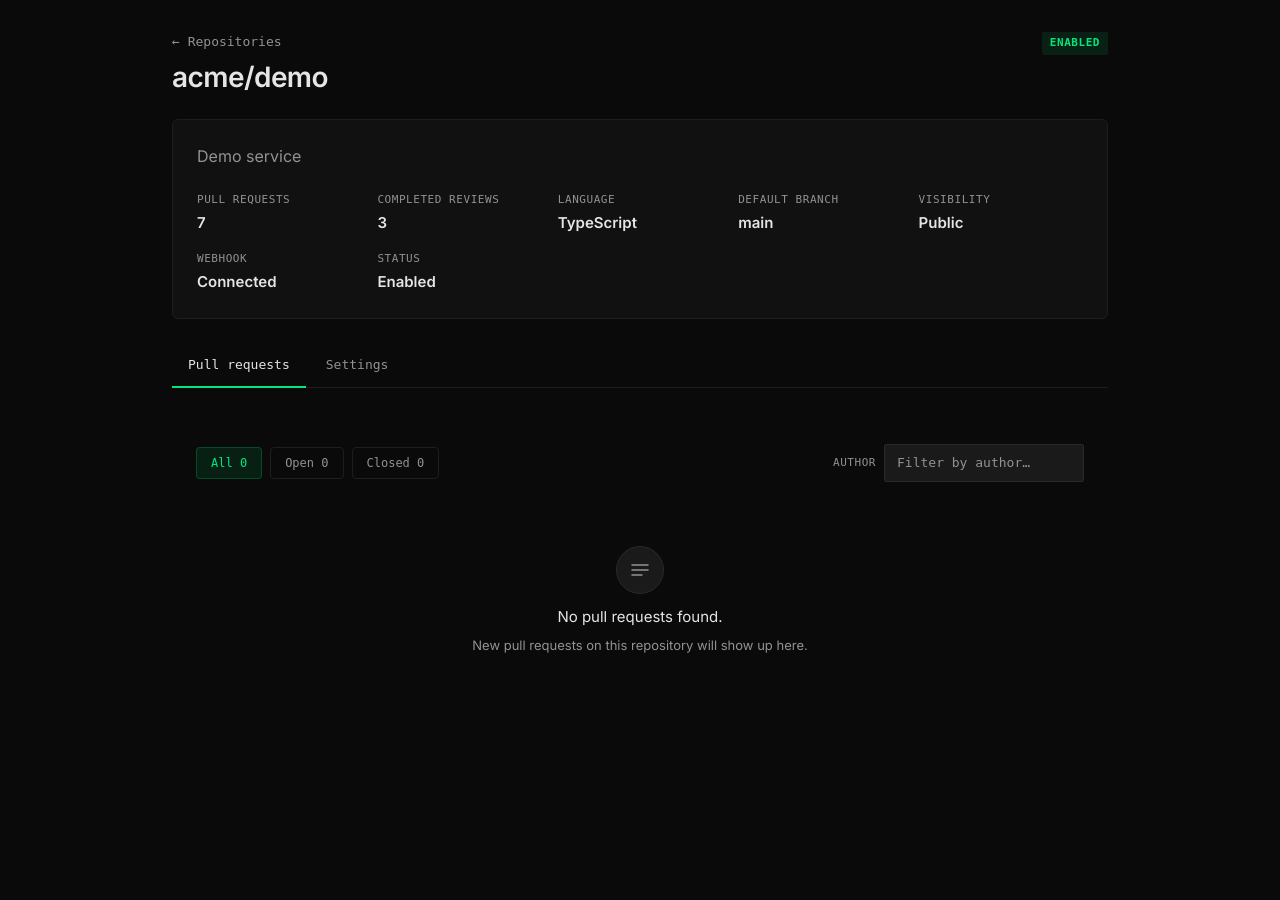
Test: RepositoryDetailComponent — detail header, tabs and guarded mutations (plan Step 6) › keeps the draft and shows an alert when the PATCH fails
The image size is (1280, 900).
Step 1. Click the tab with test id "tab-settings" → (357, 365), box [310,342,404,388]
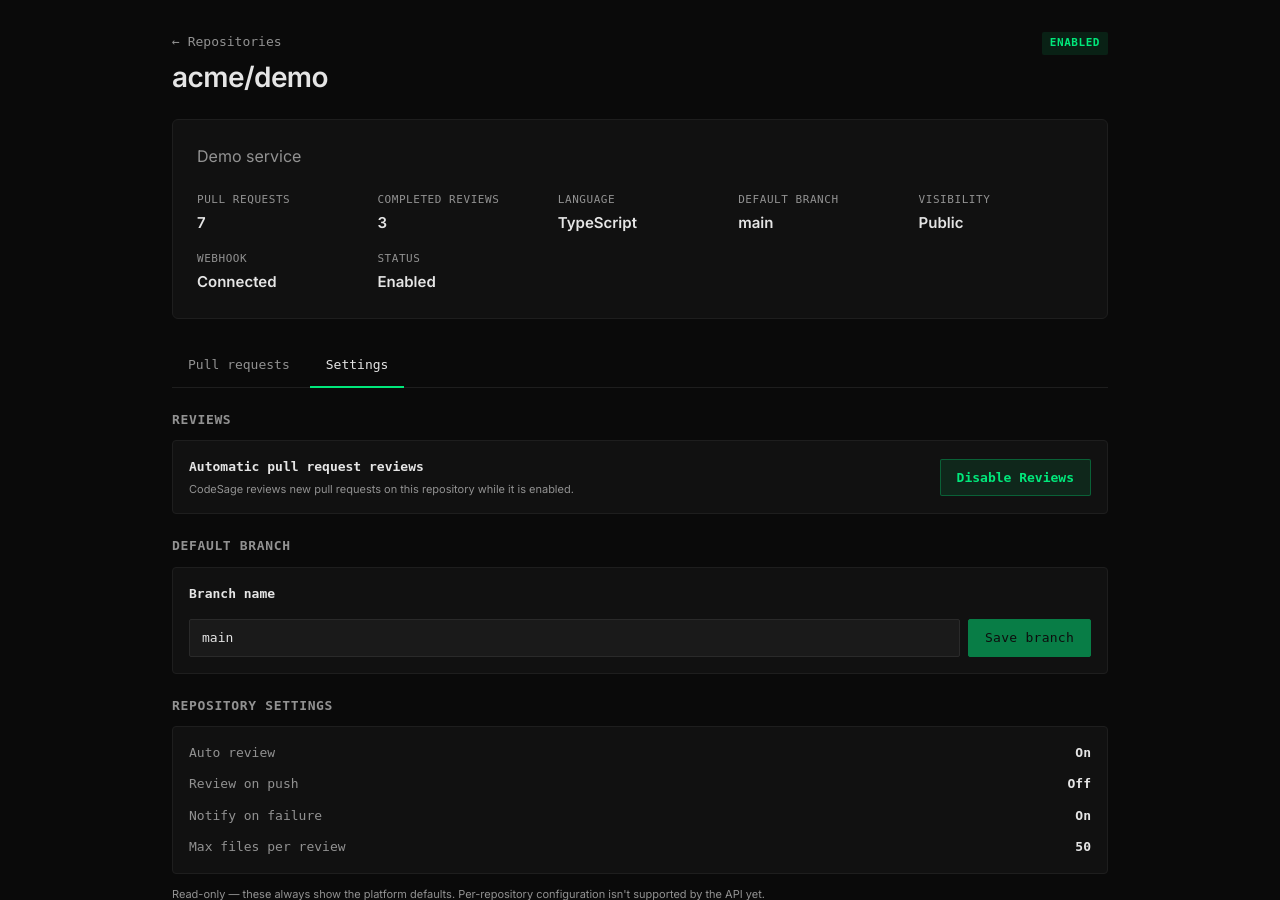
Step 2. Replace the text in the field with test id "branch-input" with "develop" → (574, 638), box [189,619,960,656]
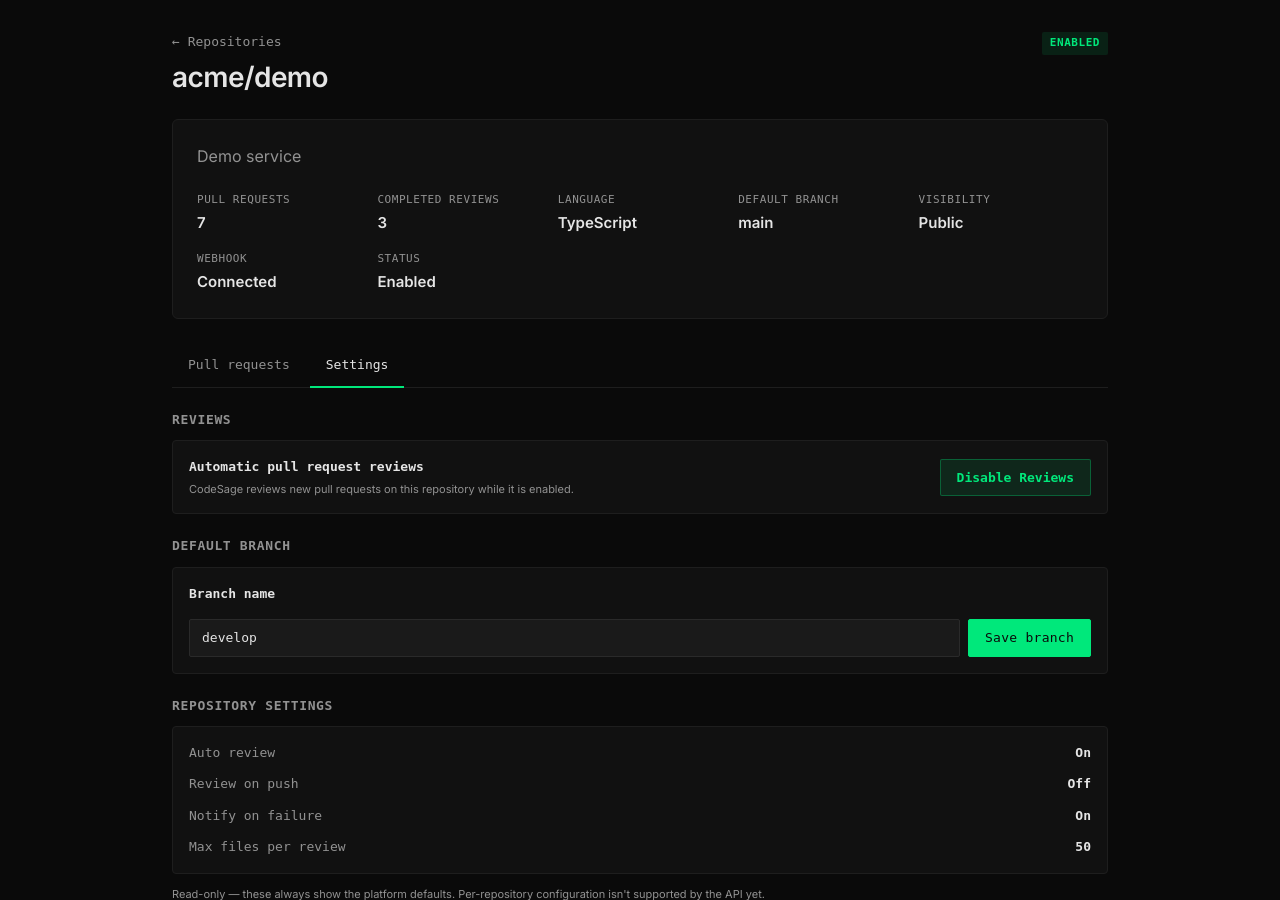
Step 3. Click the button with test id "branch-save" → (1030, 638), box [968,619,1091,656]
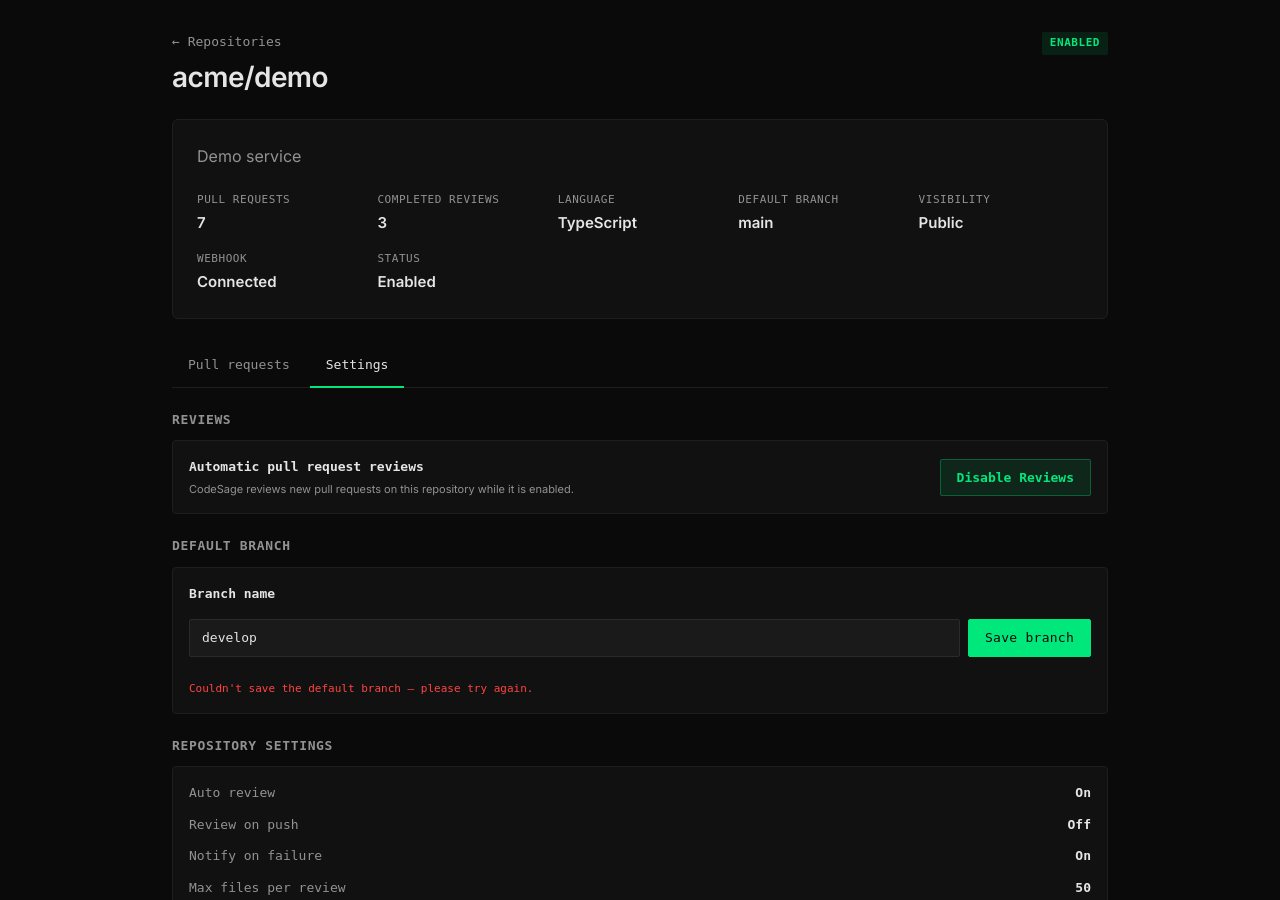
Expected: the message with class "save-err" shows "Couldn't save the default branch", [189,682,533,694]
